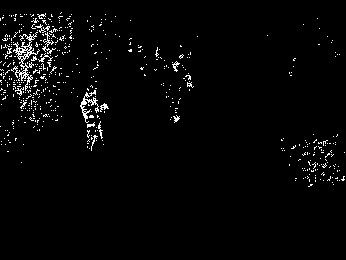person: (80, 86, 111, 151)
